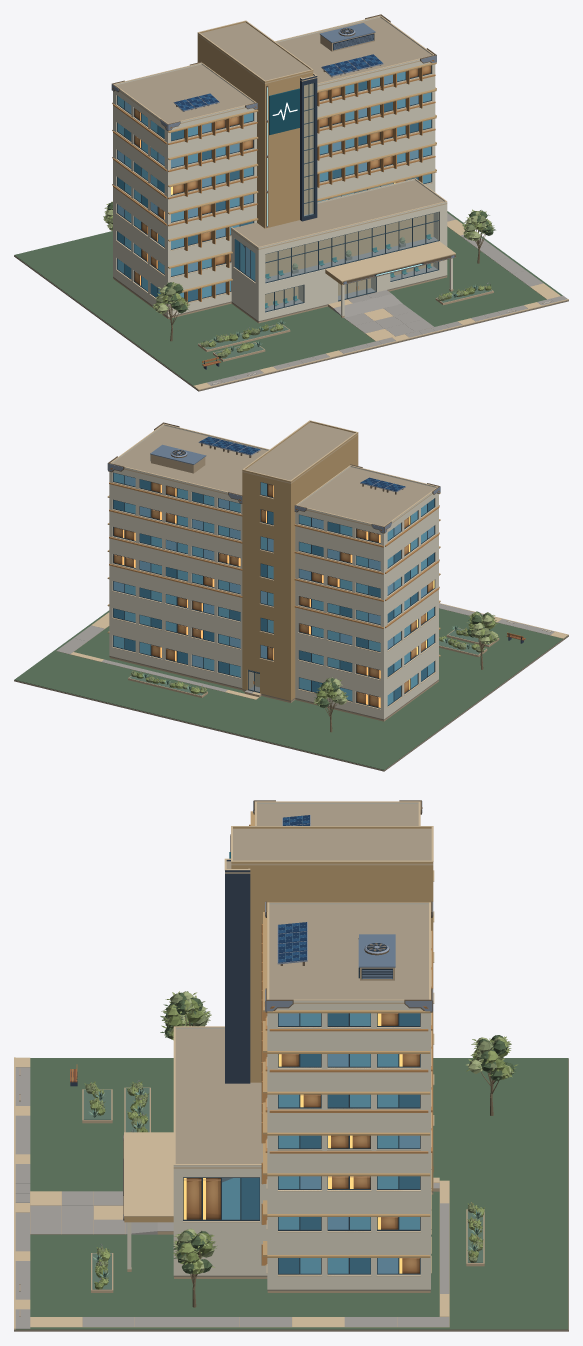
Rendered from hospital_especializado.fbx.
The picture shows the model from 3 angles, top to bottom: view 1: azimuth 30°, elevation 25°; view 2: azimuth 150°, elevation 25°; view 3: azimuth 270°, elevation 25°; orthographic projection. The views are drawn at different scales.
Visible parts, largest first — view 1: Muros, Parcela, Marquesinas, Acristalamiento opaco, Remates minerales, Cristales transparentes, Senderos y explanadas, Parasoles de cerámica dorada, Marcos y lamas, Ventanas · estancias iluminadas, Piedra y bordillos, Equipamiento de fachada (+6 smaller); view 2: Muros, Parcela, Marquesinas, Acristalamiento opaco, Marcos y lamas, Ventanas · estancias iluminadas, Remates minerales, Parasoles de cerámica dorada, Senderos y explanadas, Equipamiento de fachada, Azotea · módulos fotovoltaicos, Arbol 58 (+5 smaller); view 3: Parcela, Muros, Marquesinas, Senderos y explanadas, Acristalamiento opaco, Remates minerales, Ventanas · estancias iluminadas, Marcos y lamas, Parasoles de cerámica dorada, Setos y herbaceas, Islas de plantacion, Arbol 60 (+6 smaller).
Boxes of the visible parts, x1=… form: Muros: x1=113, y1=35, x2=447, y2=320; Parcela: x1=14, y1=211, x2=568, y2=391; Marquesinas: x1=113, y1=15, x2=455, y2=285; Acristalamiento opaco: x1=117, y1=71, x2=431, y2=301; Remates minerales: x1=113, y1=62, x2=453, y2=323; Cristales transparentes: x1=265, y1=83, x2=438, y2=311; Senderos y explanadas: x1=194, y1=213, x2=567, y2=389; Parasoles de cerámica dorada: x1=112, y1=67, x2=435, y2=304; Marcos y lamas: x1=117, y1=33, x2=439, y2=312; Ventanas · estancias iluminadas: x1=134, y1=65, x2=431, y2=285; Piedra y bordillos: x1=198, y1=286, x2=568, y2=390; Equipamiento de fachada: x1=265, y1=23, x2=431, y2=308; Muros: x1=109, y1=435, x2=438, y2=719; Parcela: x1=14, y1=608, x2=568, y2=771; Marquesinas: x1=110, y1=420, x2=438, y2=526; Acristalamiento opaco: x1=113, y1=473, x2=434, y2=705; Marcos y lamas: x1=113, y1=455, x2=434, y2=708; Ventanas · estancias iluminadas: x1=113, y1=482, x2=434, y2=707; Remates minerales: x1=107, y1=482, x2=440, y2=721; Parasoles de cerámica dorada: x1=109, y1=482, x2=439, y2=628; Senderos y explanadas: x1=56, y1=603, x2=567, y2=699; Equipamiento de fachada: x1=150, y1=444, x2=206, y2=473; Azotea · módulos fotovoltaicos: x1=198, y1=436, x2=405, y2=494; Arbol 58: x1=466, y1=611, x2=499, y2=669; Parcela: x1=14, y1=1058, x2=568, y2=1331; Muros: x1=173, y1=865, x2=433, y2=1289; Marquesinas: x1=124, y1=801, x2=433, y2=1222; Senderos y explanadas: x1=15, y1=1057, x2=449, y2=1328; Acristalamiento opaco: x1=201, y1=1013, x2=420, y2=1273; Remates minerales: x1=127, y1=811, x2=434, y2=1292; Ventanas · estancias iluminadas: x1=183, y1=1013, x2=419, y2=1273; Marcos y lamas: x1=183, y1=938, x2=433, y2=1274; Parasoles de cerámica dorada: x1=249, y1=824, x2=432, y2=1265; Setos y herbaceas: x1=84, y1=1080, x2=484, y2=1289; Islas de plantacion: x1=83, y1=1088, x2=483, y2=1289; Arbol 60: x1=466, y1=1035, x2=518, y2=1115.
Bounding box in the file's own units: 44 × 25.37 × 38.
Materials: 52 (1 with a texture image).
